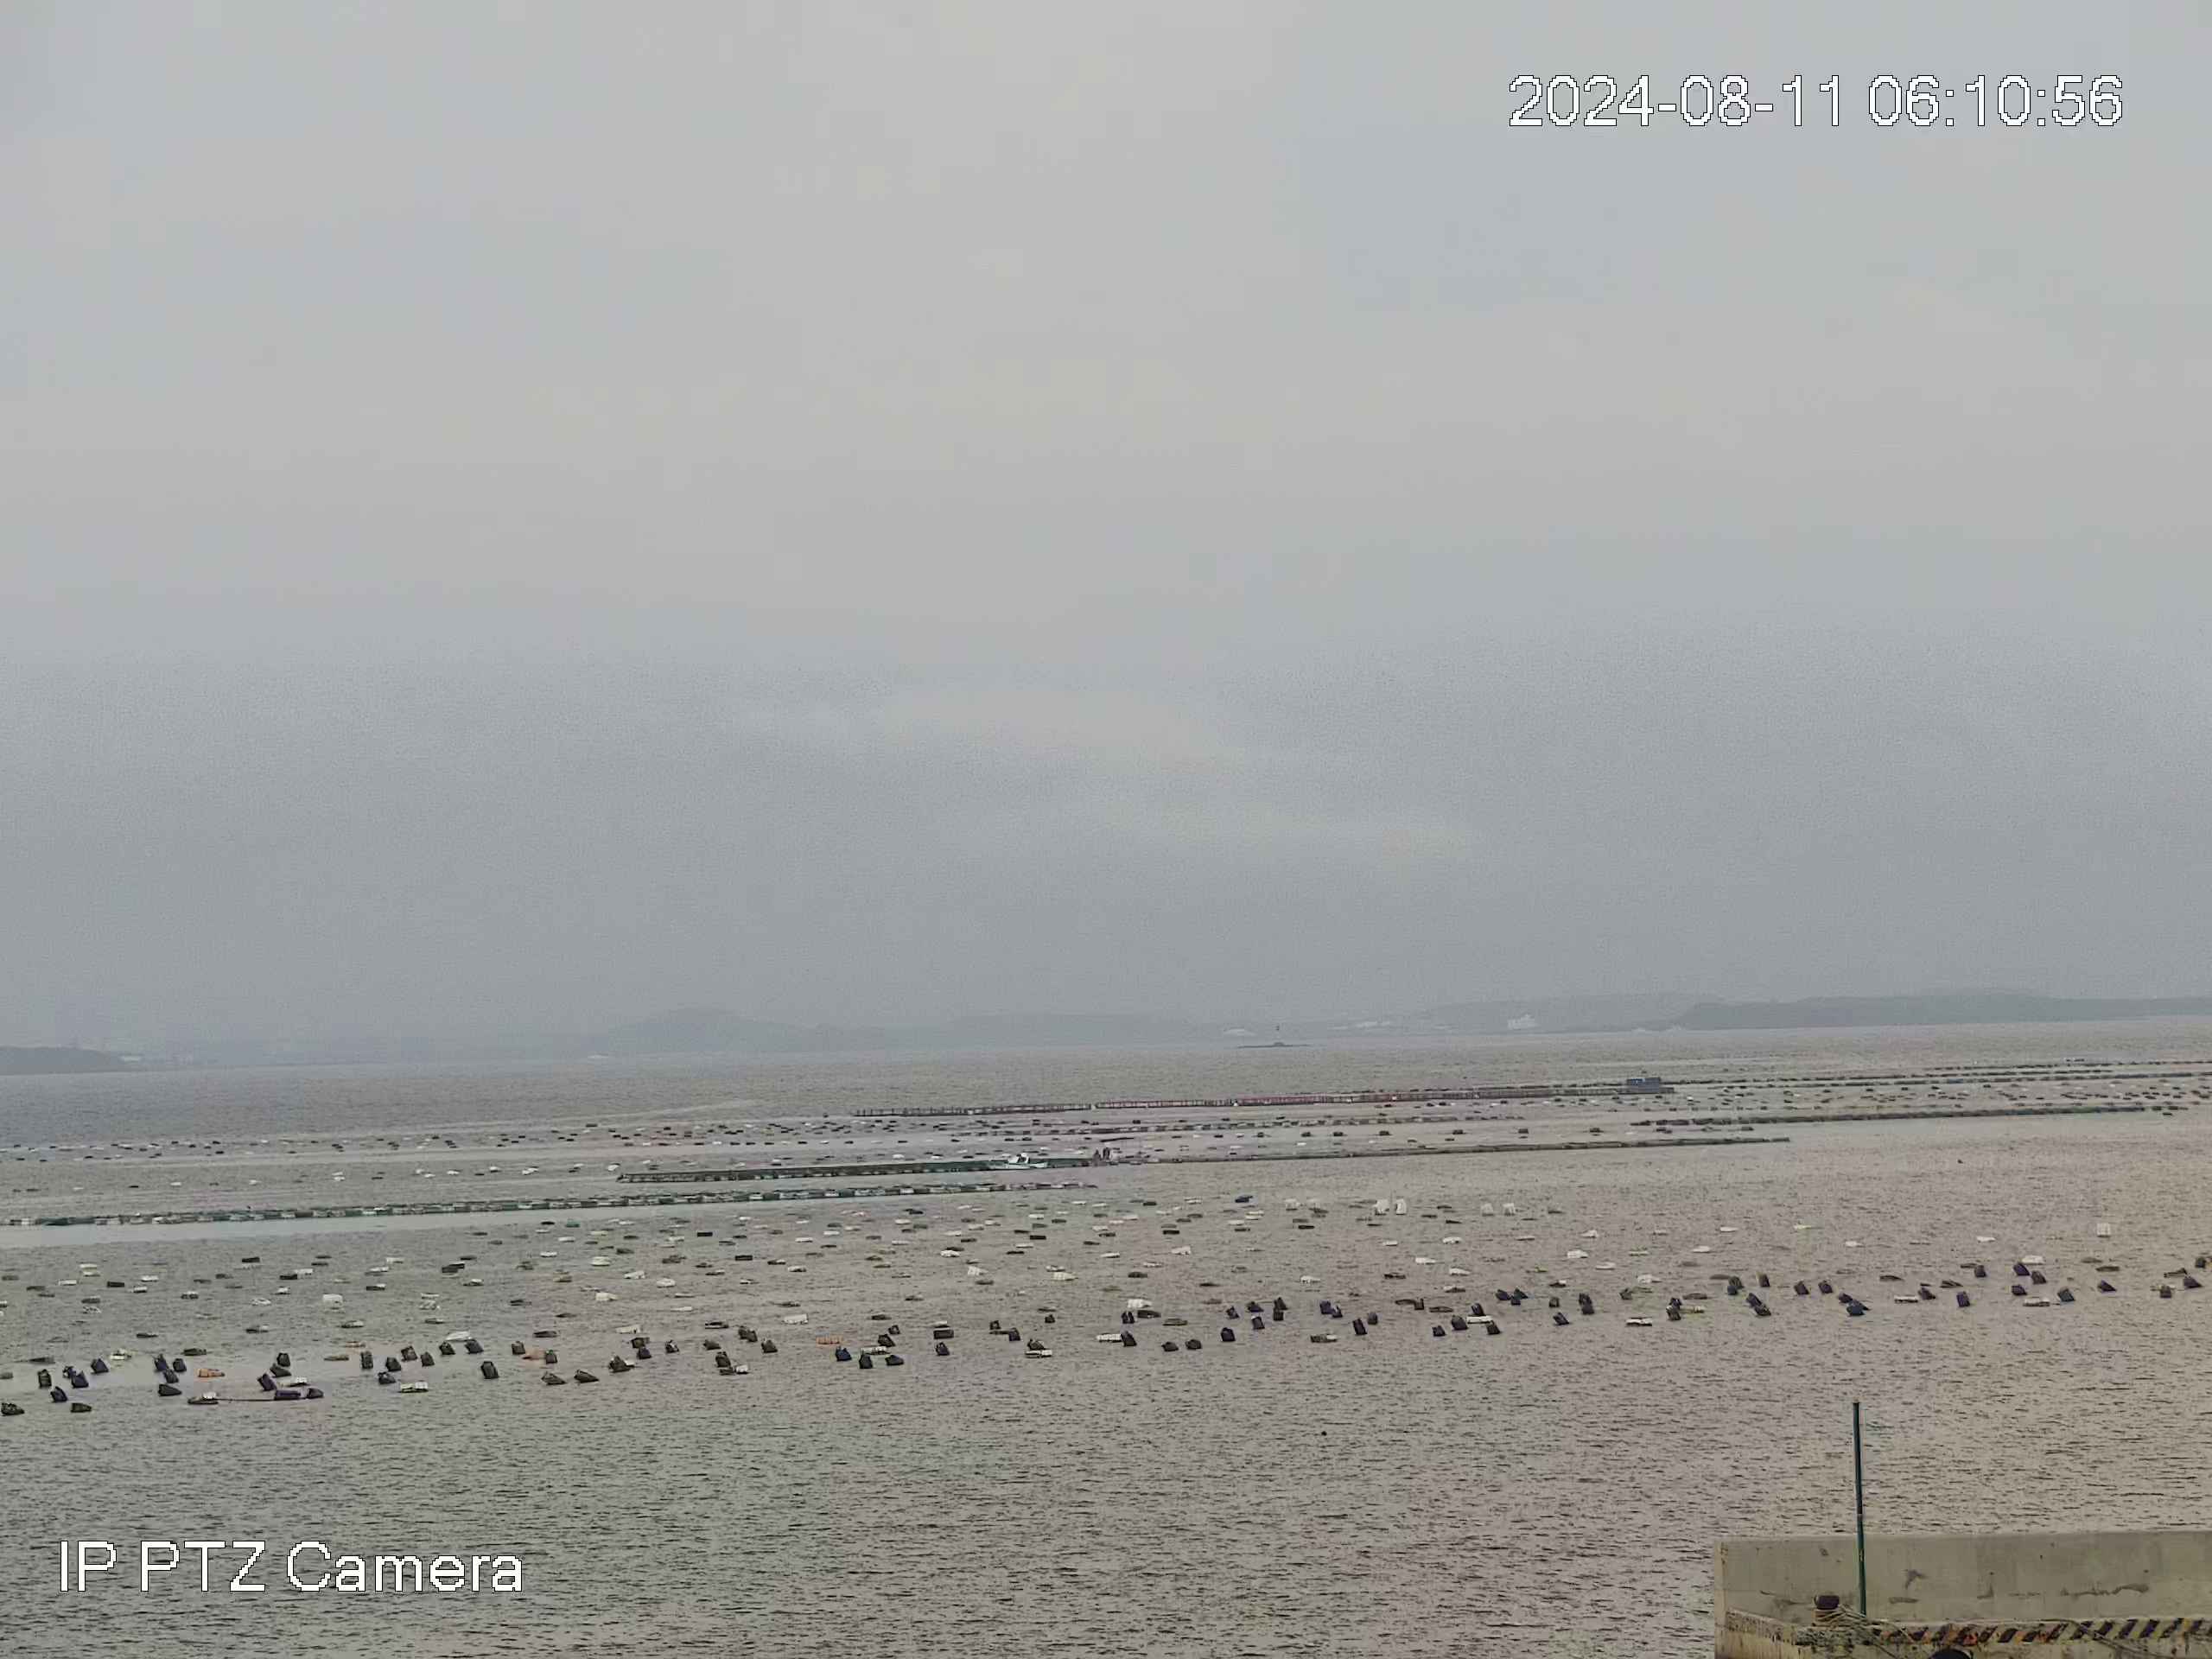boat: (981, 1150, 1052, 1171)
